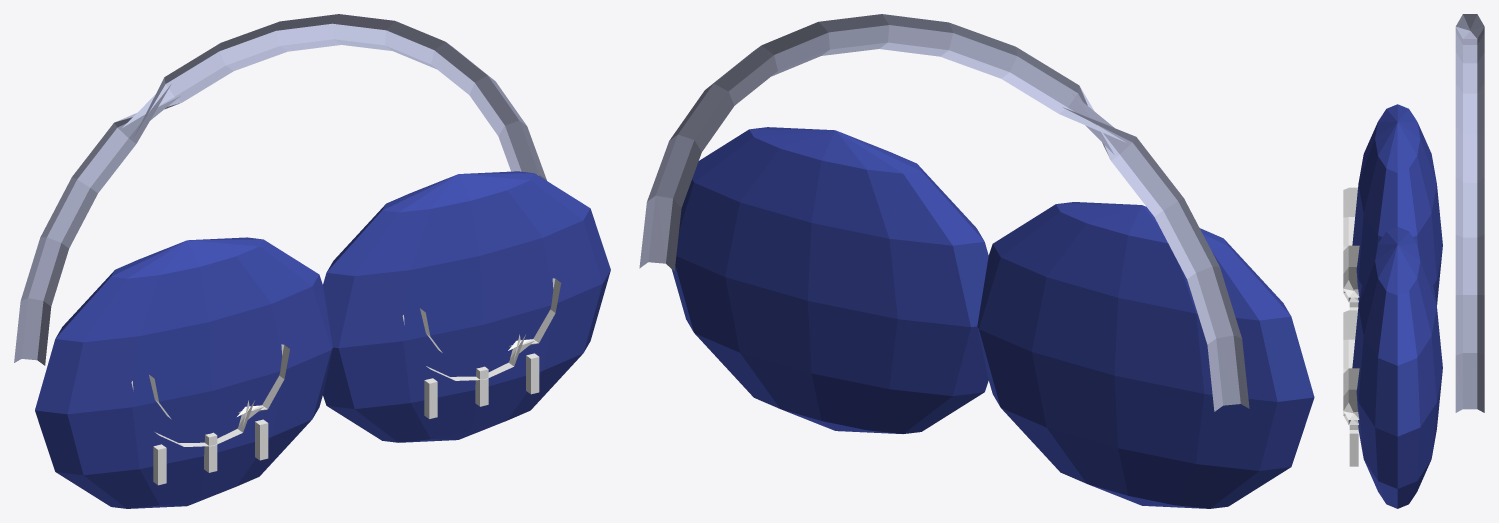
Rendered from sovmask.glb.
3 renders of one model, left to right at view 1: azimuth 30°, elevation 25°; view 2: azimuth 150°, elevation 25°; view 3: azimuth 270°, elevation 25°, orthographic. The views are drawn at different scales.
Visible parts, largest first — view 1: sovmask; view 2: sovmask; view 3: sovmask.
Part boxes in pixels (box(x1,y1,x2,y2)): sovmask: box(14, 14, 610, 508); sovmask: box(639, 14, 1314, 508); sovmask: box(1343, 14, 1484, 508).
Bounding box in the file's own units: 0.34 × 0.2369 × 0.078.
